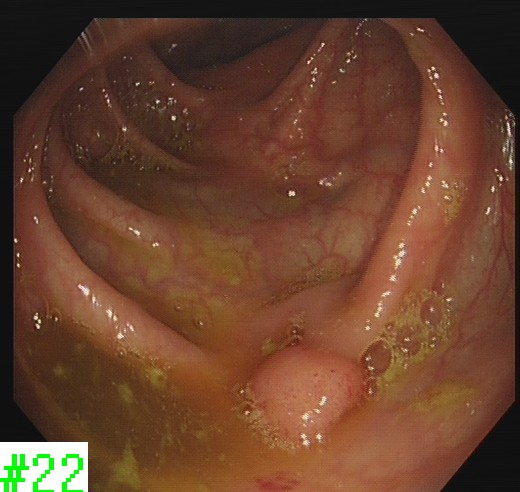adenoma: (245, 342, 364, 444)
